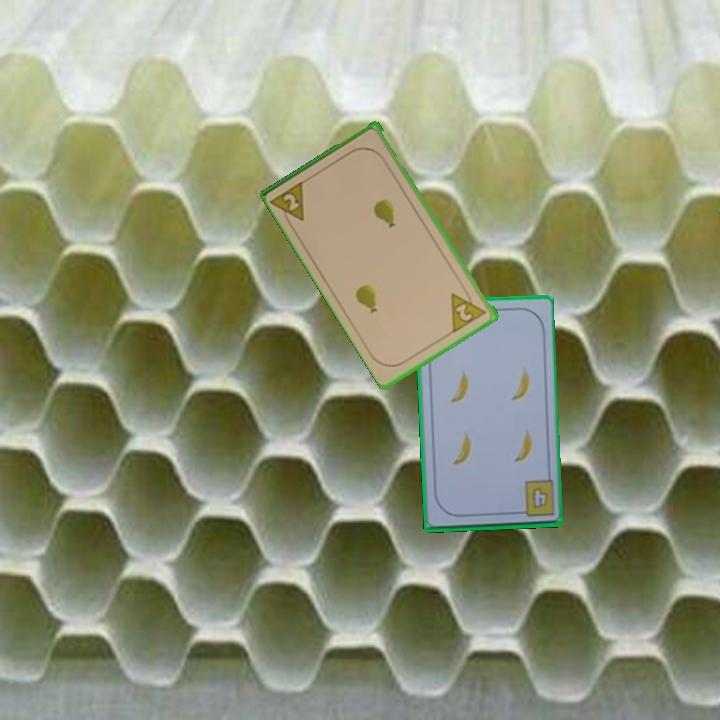2p: (268, 177, 309, 231), (447, 284, 490, 335)
4b: (513, 477, 557, 520)
